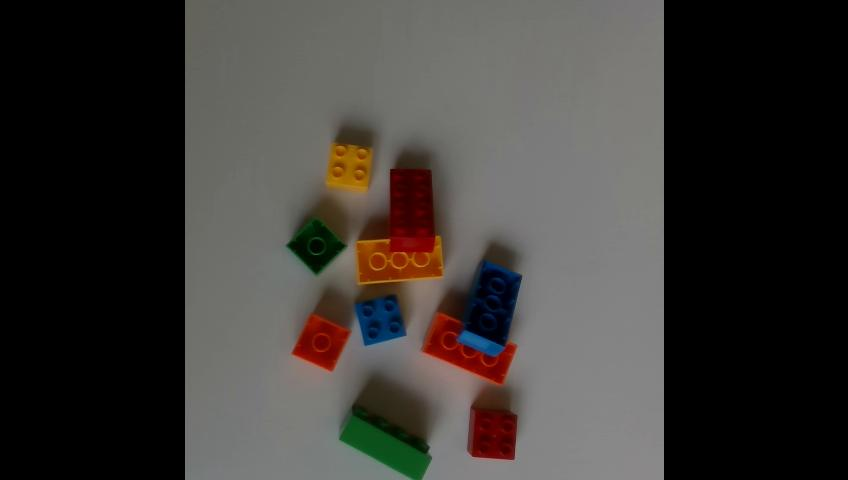2x2_blue: (356, 296, 404, 348)
2x2_green: (287, 218, 351, 275)
2x2_orange: (293, 313, 349, 371)
2x2_red: (470, 409, 517, 459)
2x2_yellow: (328, 143, 373, 192)
4x2_blue: (458, 263, 522, 354)
4x2_green: (340, 408, 430, 480)
4x2_orange: (418, 313, 520, 387)
4x2_red: (390, 166, 434, 253)
4x2_yellow: (356, 240, 442, 283)
